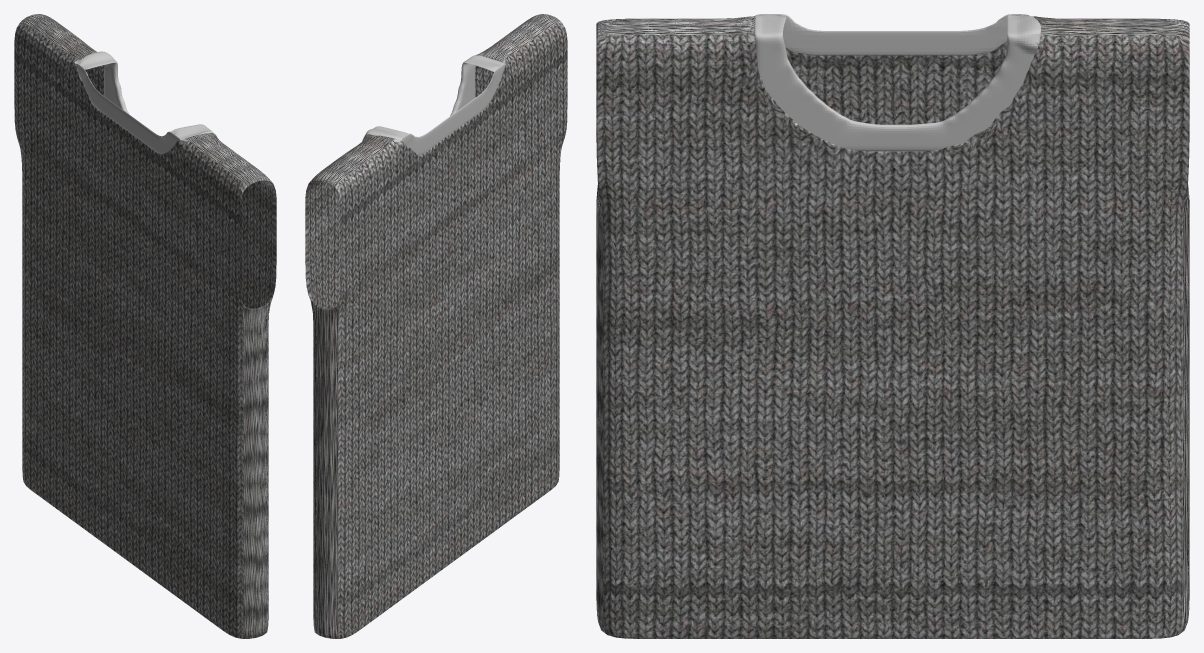
Rendered from round-neck-deep.fbx.
The picture shows the model from 3 angles, left to right: view 1: azimuth 30°, elevation 25°; view 2: azimuth 150°, elevation 25°; view 3: azimuth 270°, elevation 25°; orthographic projection. The views are drawn at different scales.
Parts seen in each view (by area): view 1: Cube.001, Plane.002, Plane.001; view 2: Cube.001, Plane.002, Plane.001; view 3: Cube.001, Plane.001, Plane.002.
Boxes of the visible parts, box(x1,y1,x2,y2) form: Cube.001: box(14, 14, 276, 638); Plane.002: box(76, 64, 181, 154); Plane.001: box(74, 51, 213, 139); Cube.001: box(305, 14, 567, 638); Plane.002: box(401, 63, 505, 155); Plane.001: box(363, 55, 504, 142); Cube.001: box(596, 15, 1189, 638); Plane.001: box(754, 15, 1040, 151); Plane.002: box(755, 14, 1029, 55).
Size of the model in its own units: 15.26 by 179 by 159.
